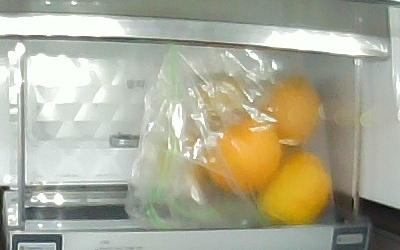orange_vinyl: (207, 118, 281, 193), (256, 152, 330, 224), (261, 76, 318, 146)
